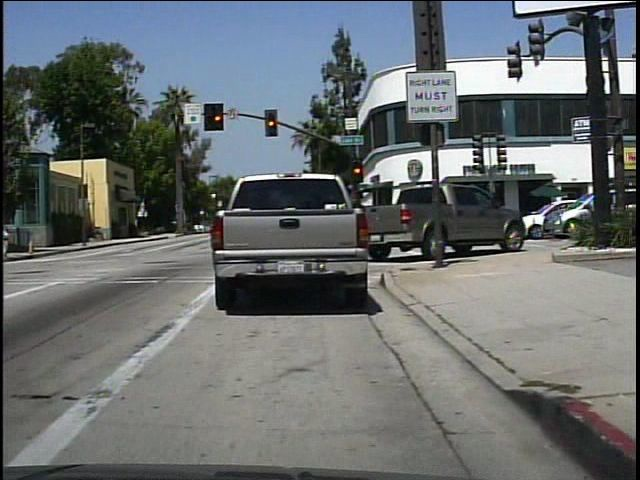person: (469, 200, 486, 239), (2, 225, 15, 261)
